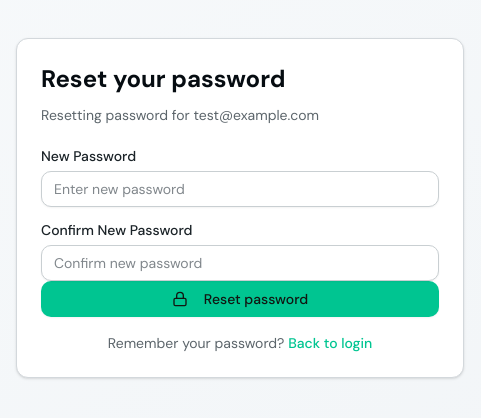
ResetPassword Page › Password Validation › shows error when password has no lowercase letter
Type "PASSWORD123!" into the password field with placeholder "Enter new password".
click(240, 189); type("PASSWORD123!")  # box [41,171,439,207]
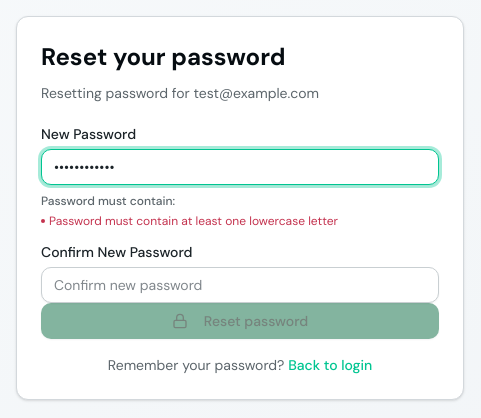
Expected: the list item "Password must contain at least one lowercase letter" is shown, [41,213,338,229]
